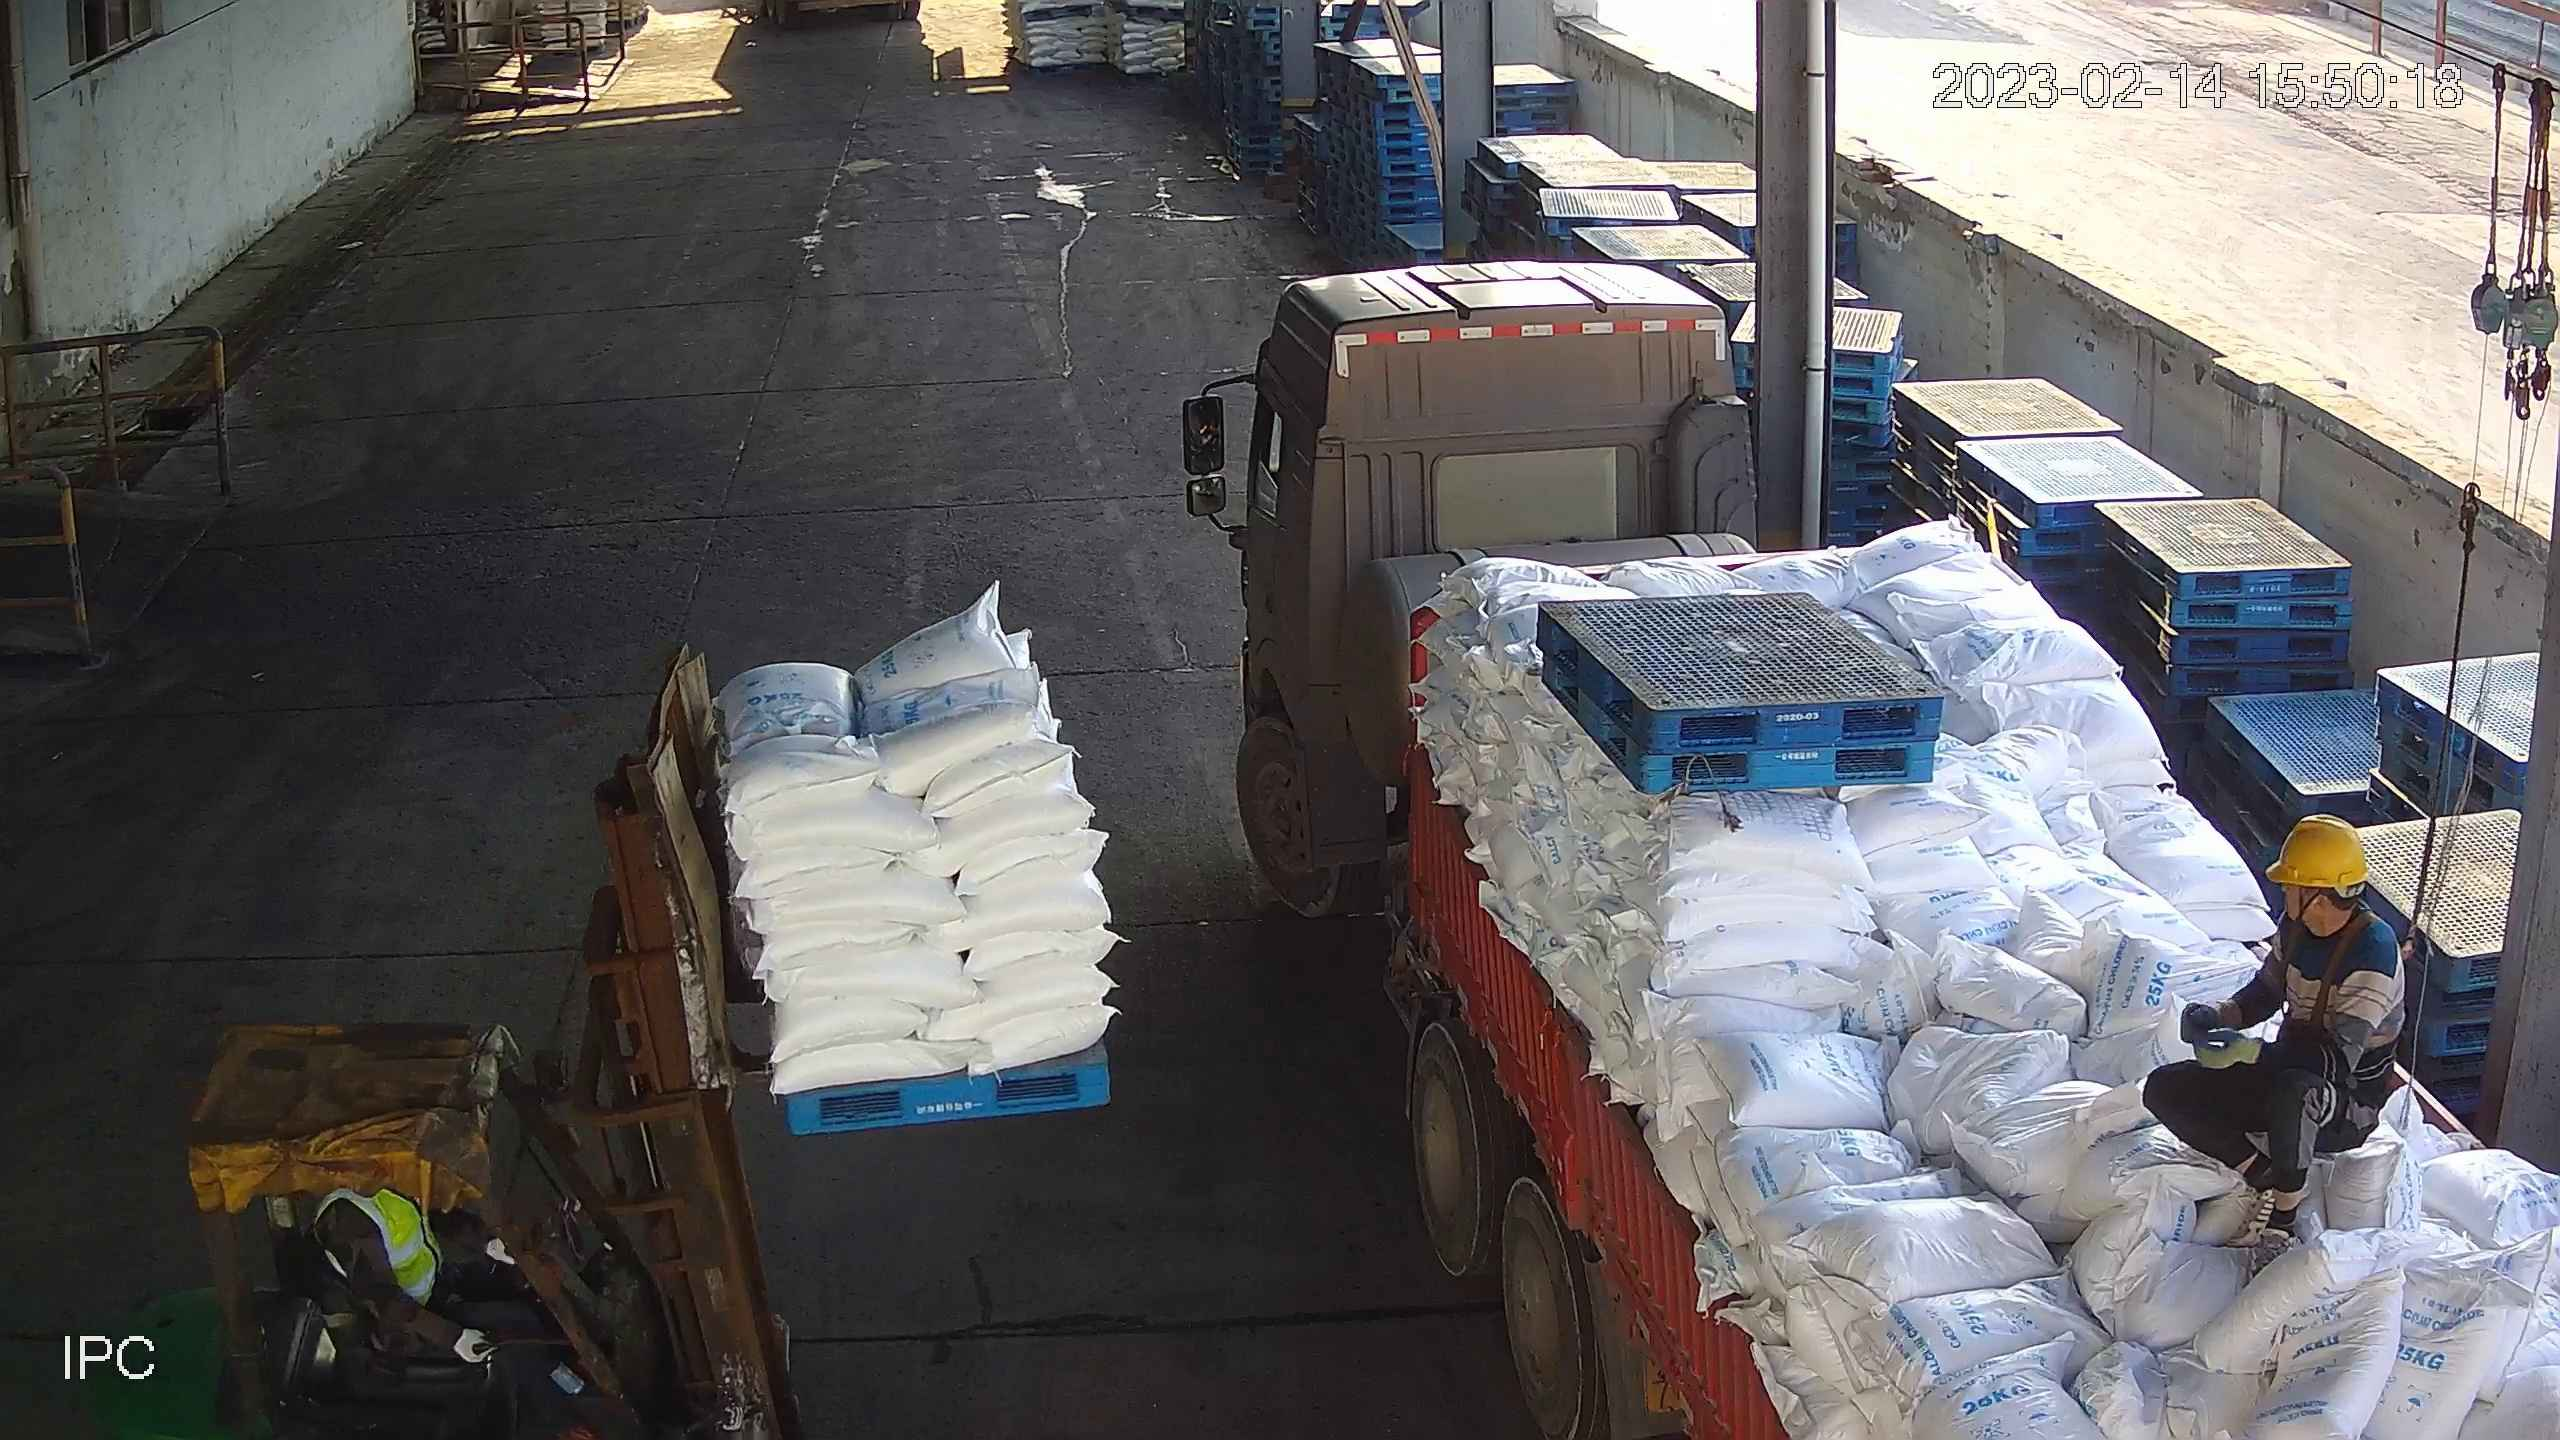belt: (2272, 907, 2423, 1060)
head: (2257, 812, 2401, 960)
helmet: (2264, 813, 2370, 887)
people: (2141, 815, 2410, 1278)
truck: (1228, 254, 2560, 1440)
